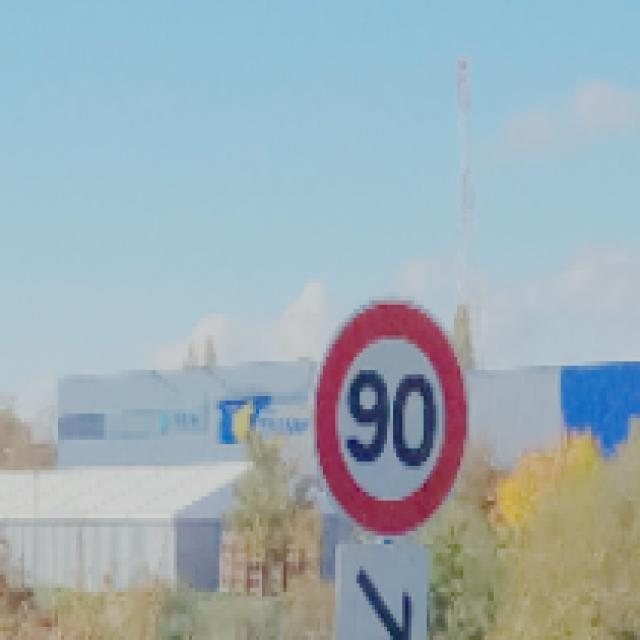speed_90: (312, 297, 470, 541)
